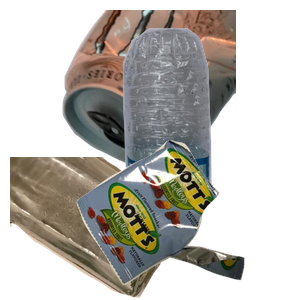glass: (10, 157, 190, 300)
metal: (60, 10, 300, 175)
plastic: (111, 26, 300, 206)
trash: (74, 137, 300, 300)
